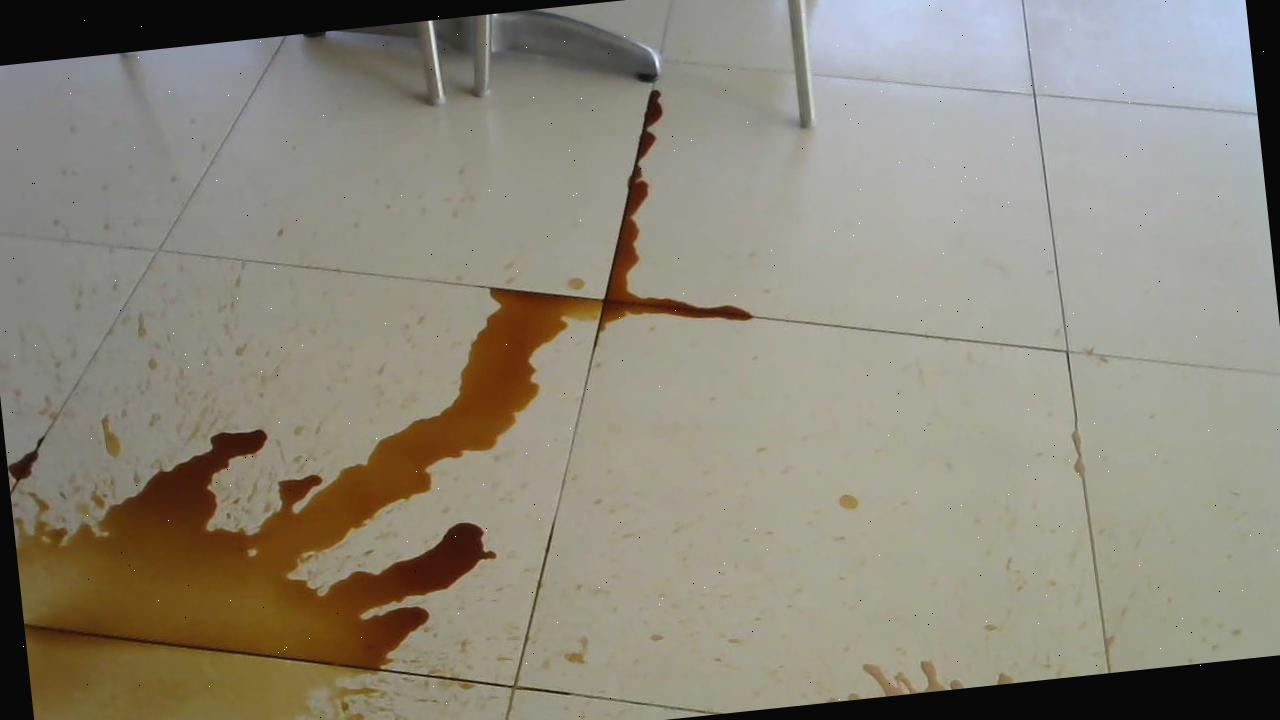dirty_floor: (0, 172, 799, 720), (818, 626, 1039, 703)
